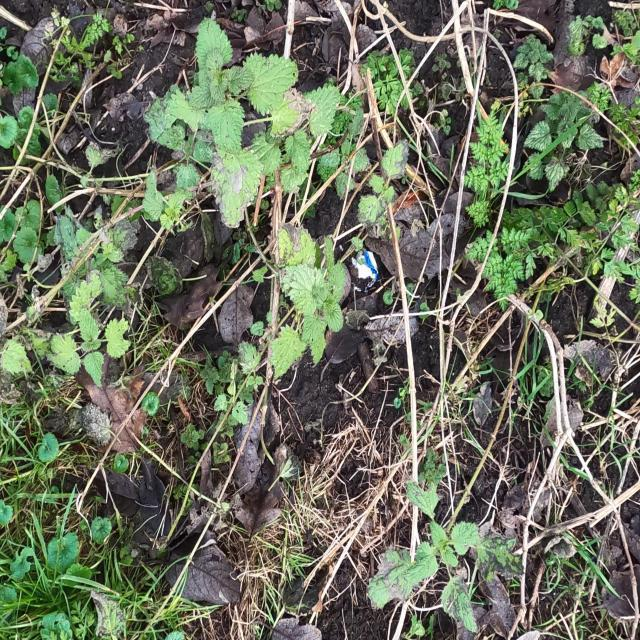Plastic: (349, 245, 383, 296)
